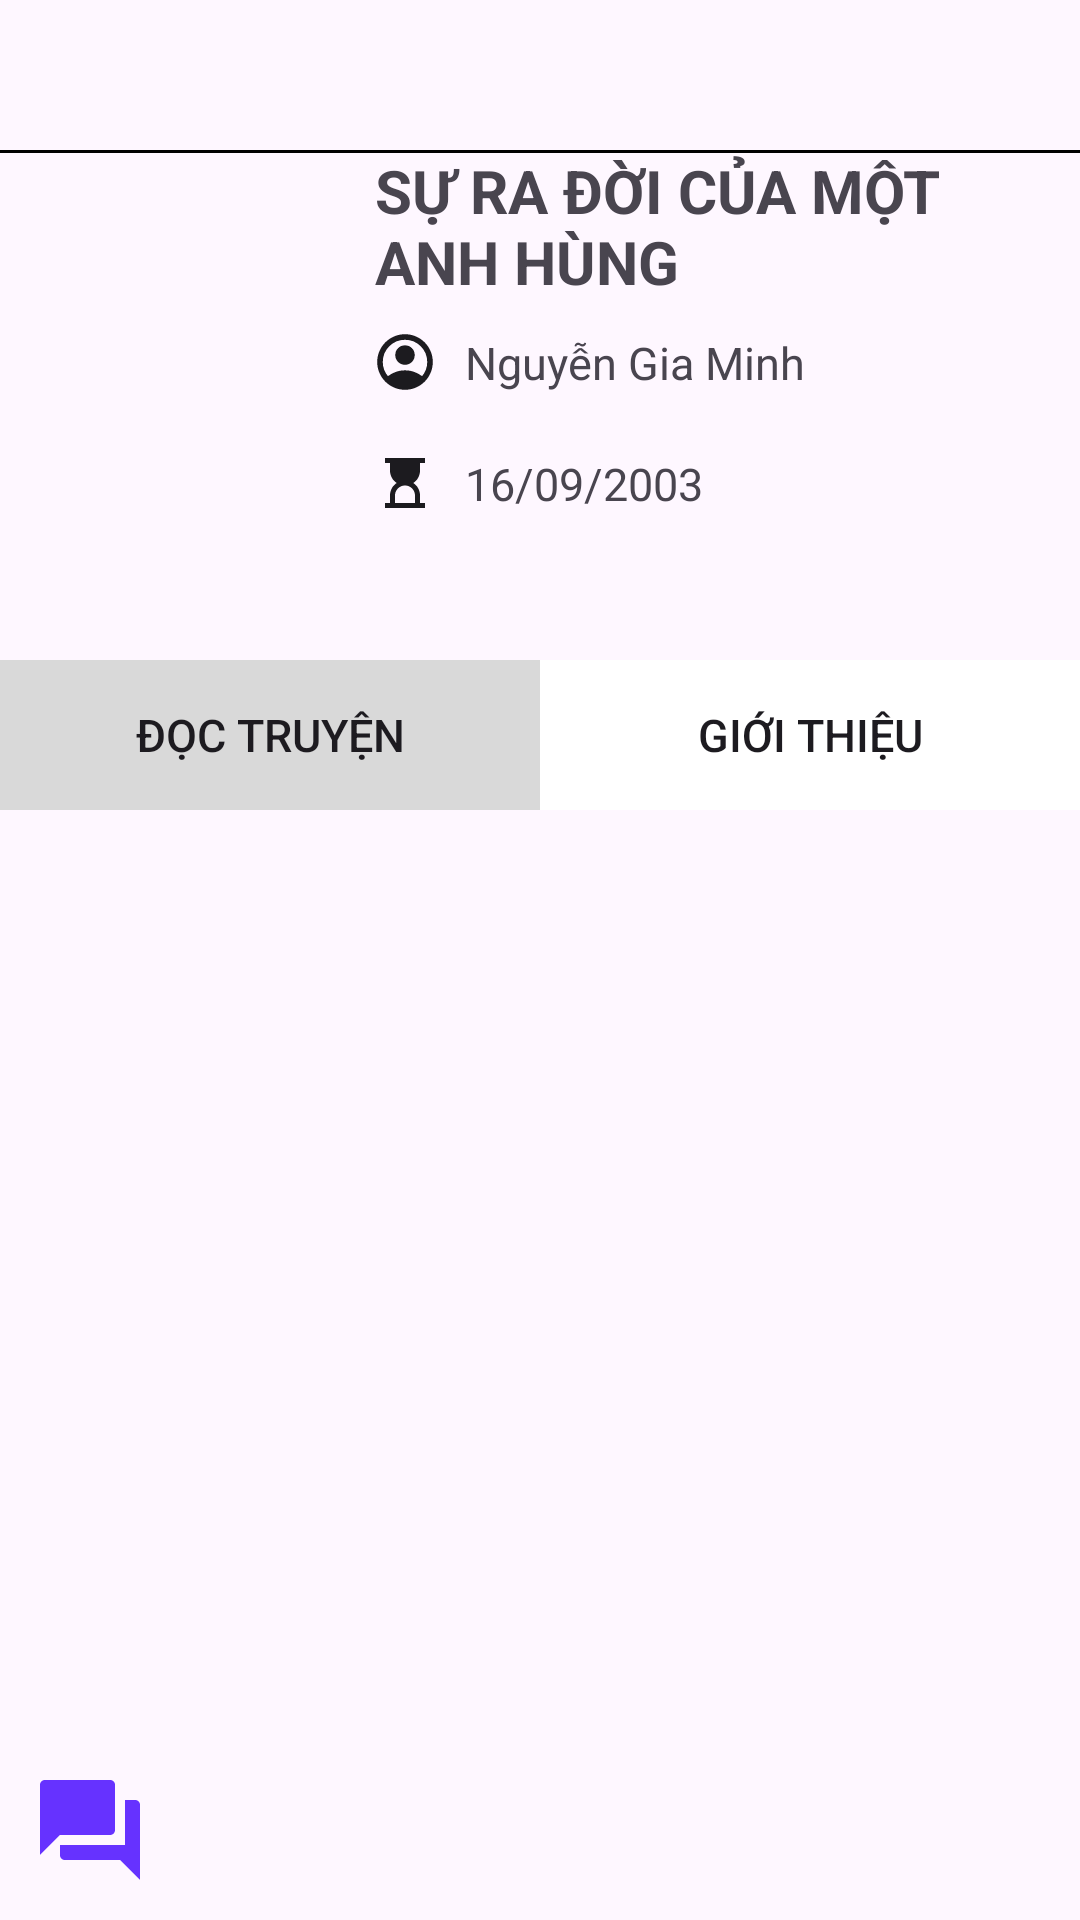

Where to tap for icons on this 1080 × 1920 app screen, as [x,y]:
forummes: [90,1830]
